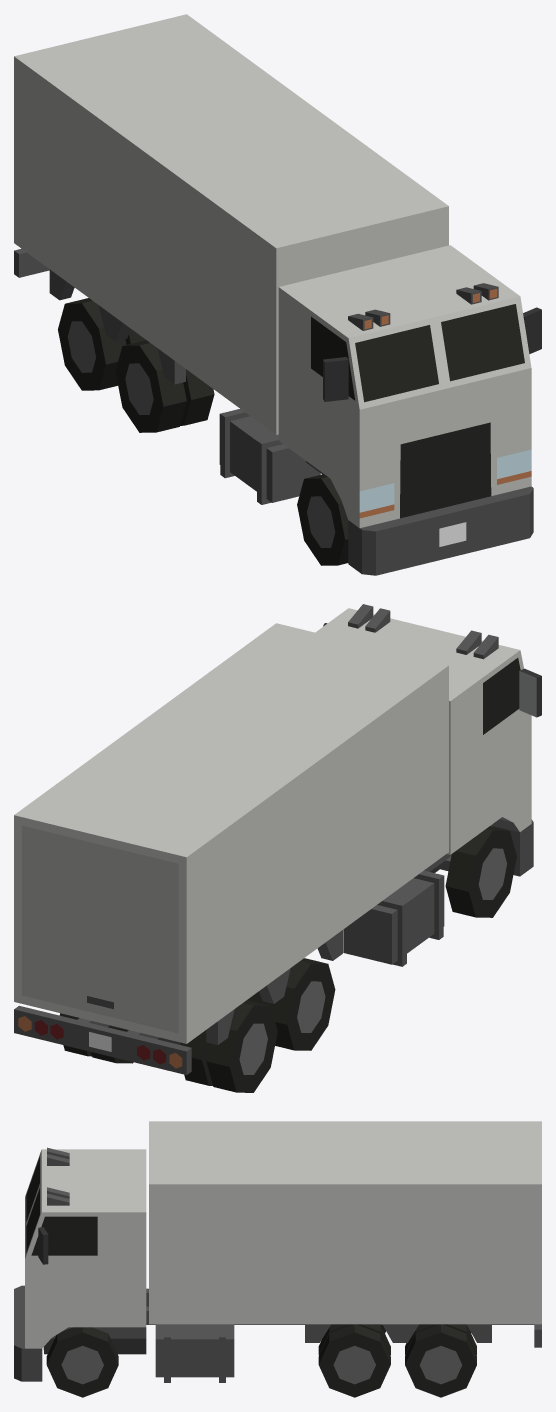
Rendered from Veh_Truck_03_White.obj.
3 views of the same model, one above another, from view 1: azimuth 30°, elevation 25°; view 2: azimuth 150°, elevation 25°; view 3: azimuth 270°, elevation 25° (orthographic). The views are drawn at different scales.
Size of the model in its own units: 1.68 by 2.11 by 4.74.
